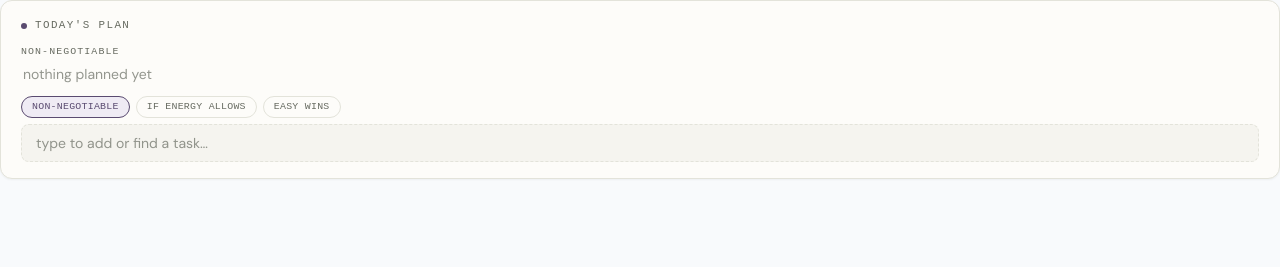
Scenario: PlanSection combobox › shows matching tasks and an explicit create row while typing
Type "dotnet" into the field named "Add or find a task for the plan" at (640, 143), box [21,124,1259,162]
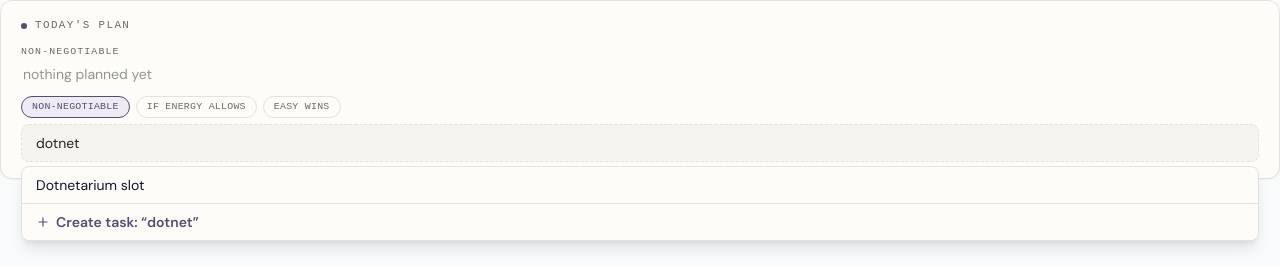
Now the button "Dotnetarium slot" is shown, box [22,167,1258,203]
Now the button "Create task: “dotnet”" is shown, box [22,203,1258,240]
